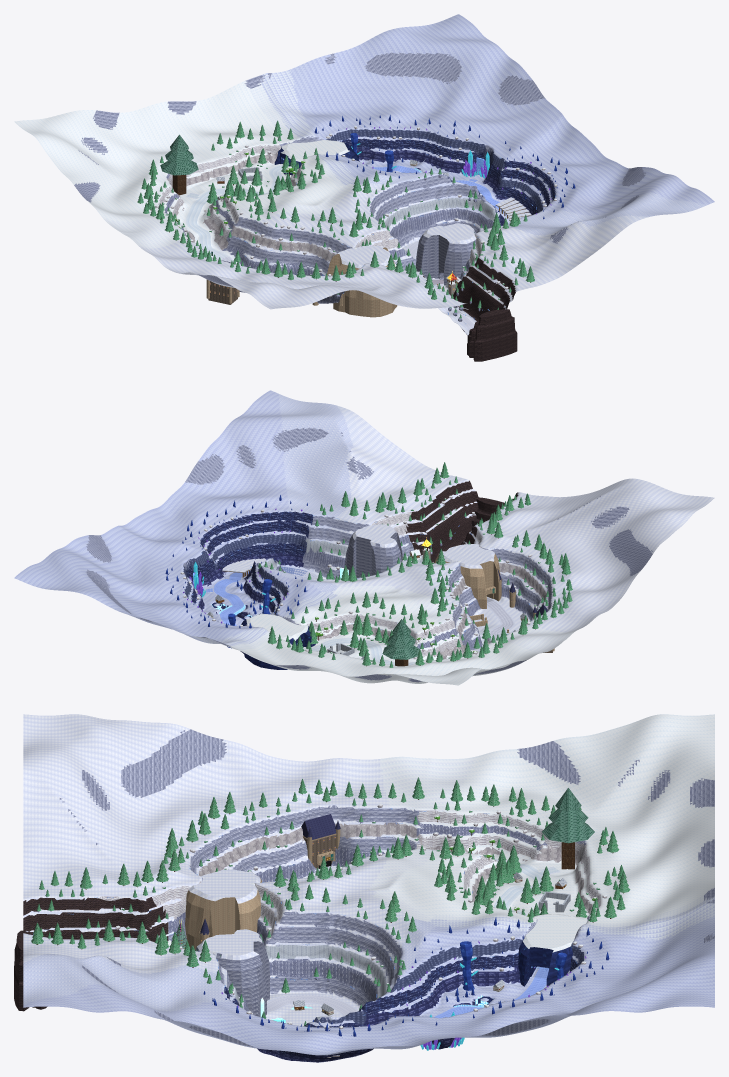
The picture shows the model from 3 angles, top to bottom: view 1: azimuth 30°, elevation 25°; view 2: azimuth 150°, elevation 25°; view 3: azimuth 270°, elevation 25°; orthographic projection. The views are drawn at different scales.
Visible parts, largest first — view 1: Snow Kingdom, Frozen Falls Rock, Gatehouse Rock, Gorge Bend 3, Ice Cave Rock, Road 09 summit, Great Keep 30 20 30; view 2: Snow Kingdom, Frozen Falls Rock, Gatehouse Rock, Ice Cave Rock, Road 09 summit, Road 15 aurora, Road 05 frostveil; view 3: Snow Kingdom, Gatehouse Rock, Frozen Falls Rock, Ice Cave Rock, Great Keep 30 20 30, Road 19 lake, Giant Tree Crown 0, Road 09 summit, Gorge Bend 3.
Boxes of the visible parts, <box> form: Snow Kingdom: <box>14,14,714,335</box>; Frozen Falls Rock: <box>416,223,476,285</box>; Gatehouse Rock: <box>327,245,397,317</box>; Gorge Bend 3: <box>473,309,517,361</box>; Ice Cave Rock: <box>274,140,359,175</box>; Road 09 summit: <box>184,164,285,248</box>; Great Keep 30 20 30: <box>206,258,239,304</box>; Snow Kingdom: <box>14,390,714,685</box>; Frozen Falls Rock: <box>344,524,402,578</box>; Gatehouse Rock: <box>434,544,500,608</box>; Ice Cave Rock: <box>240,613,315,669</box>; Road 09 summit: <box>303,638,415,665</box>; Road 15 aurora: <box>212,566,282,605</box>; Road 05 frostveil: <box>487,597,514,640</box>; Snow Kingdom: <box>23,714,714,1062</box>; Gatehouse Rock: <box>185,869,262,950</box>; Frozen Falls Rock: <box>195,929,269,1016</box>; Ice Cave Rock: <box>518,914,587,986</box>; Great Keep 30 20 30: <box>301,814,340,868</box>; Road 19 lake: <box>267,994,358,1016</box>; Giant Tree Crown 0: <box>542,822,594,843</box>; Road 09 summit: <box>486,857,551,915</box>; Gorge Bend 3: <box>14,930,30,1011</box>.
Bounding box in the file's own units: 620 × 134 × 629.
106 materials, 106 textured.
